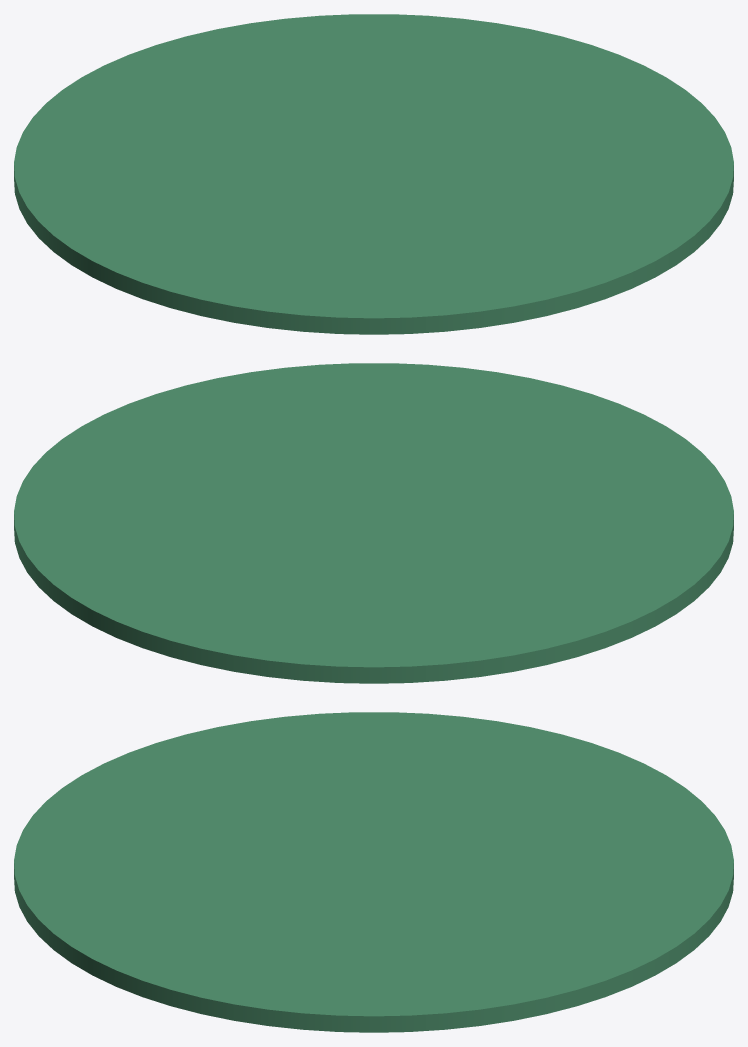
Rendered from step_01.glb.
3 views of the same model, one above another, from view 1: azimuth 30°, elevation 25°; view 2: azimuth 150°, elevation 25°; view 3: azimuth 270°, elevation 25° (orthographic).
Visible parts, largest first — view 1: part__panel circuit board; view 2: part__panel circuit board; view 3: part__panel circuit board.
Boxes of the visible parts, bbox=[...] form: part__panel circuit board: bbox=[14, 14, 733, 334]; part__panel circuit board: bbox=[14, 363, 733, 683]; part__panel circuit board: bbox=[14, 712, 733, 1032].
Size of the model in its own units: 63.56 by 1.6 by 63.58.
